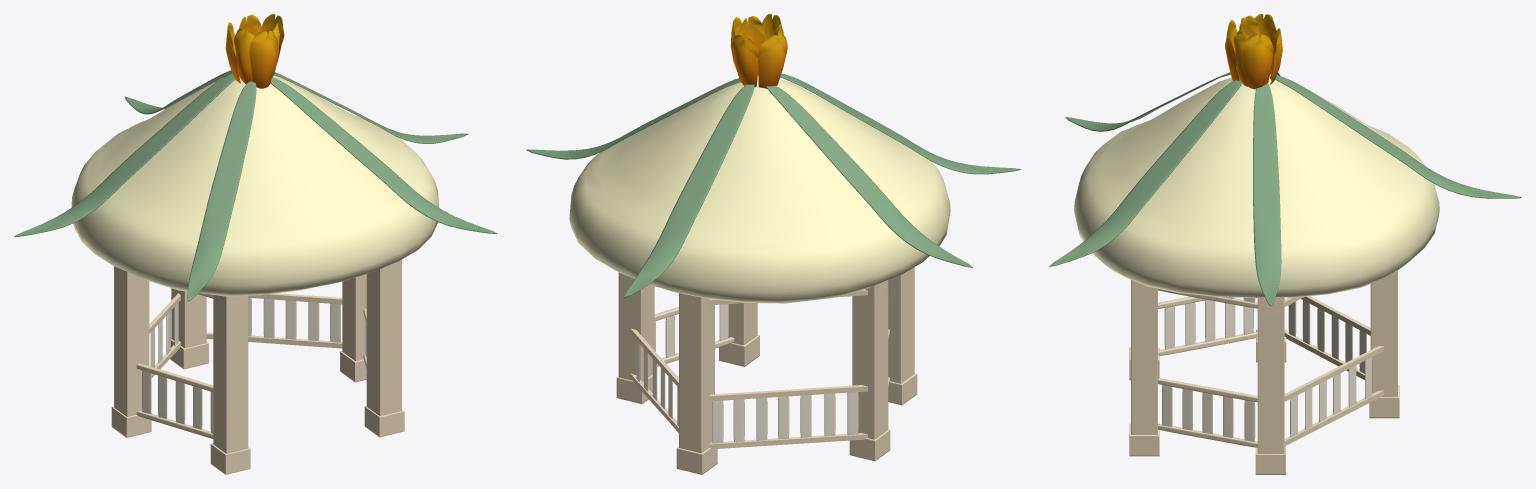
3 views of the same model, side by side, from view 1: azimuth 30°, elevation 25°; view 2: azimuth 150°, elevation 25°; view 3: azimuth 270°, elevation 25° (orthographic). The views are drawn at different scales.
Visible parts, largest first — view 1: Box083, Box124, Box131, Box161, Box129, Box086, Box160, Box128, Box130, Line340, Box085, Box132 (+10 smaller); view 2: Box083, Box130, Box087, Box129, Box086, Box128, Box124, Box161, Box085, Line338, Box101, Box131 (+15 smaller); view 3: Box083, Box085, Box160, Box128, Box131, Box130, Box087, Line337, Box099, Box104, Box161, Box098 (+8 smaller).
Part boxes in pixels (left/top/right/bottom): Box083: left=71, top=75, right=439, bottom=296; Box124: left=213, top=295, right=248, bottom=453; Box131: left=366, top=259, right=401, bottom=416; Box161: left=187, top=81, right=256, bottom=301; Box129: left=114, top=266, right=149, bottom=416; Box086: left=14, top=73, right=238, bottom=236; Box160: left=270, top=77, right=497, bottom=233; Box128: left=342, top=274, right=366, bottom=361; Box130: left=171, top=288, right=206, bottom=348; Line340: left=249, top=31, right=277, bottom=88; Box085: left=274, top=72, right=468, bottom=143; Box132: left=210, top=443, right=250, bottom=474; Box083: left=569, top=75, right=950, bottom=303; Box130: left=679, top=293, right=714, bottom=453; Box087: left=624, top=84, right=754, bottom=297; Box129: left=852, top=280, right=888, bottom=439; Box086: left=766, top=85, right=972, bottom=267; Box128: left=618, top=272, right=654, bottom=381; Box124: left=888, top=267, right=914, bottom=383; Box161: left=780, top=73, right=1020, bottom=174; Box085: left=526, top=78, right=740, bottom=159; Line338: left=758, top=34, right=787, bottom=89; Box101: left=708, top=385, right=867, bottom=401; Box131: left=728, top=303, right=757, bottom=345; Box083: left=1074, top=74, right=1439, bottom=298; Box085: left=1253, top=83, right=1281, bottom=305; Box160: left=1049, top=79, right=1242, bottom=266; Box128: left=1257, top=297, right=1284, bottom=453; Box131: left=1131, top=280, right=1157, bottom=435; Box130: left=1370, top=270, right=1397, bottom=397; Box087: left=1271, top=74, right=1521, bottom=198; Line337: left=1242, top=34, right=1273, bottom=89; Box099: left=1284, top=346, right=1383, bottom=401; Box104: left=1284, top=390, right=1383, bottom=445; Box161: left=1065, top=72, right=1230, bottom=131; Box098: left=1158, top=378, right=1257, bottom=402.
Size of the model in its own units: 6103 by 5054 by 5535.
Materials: 5 (5 with a texture image).
